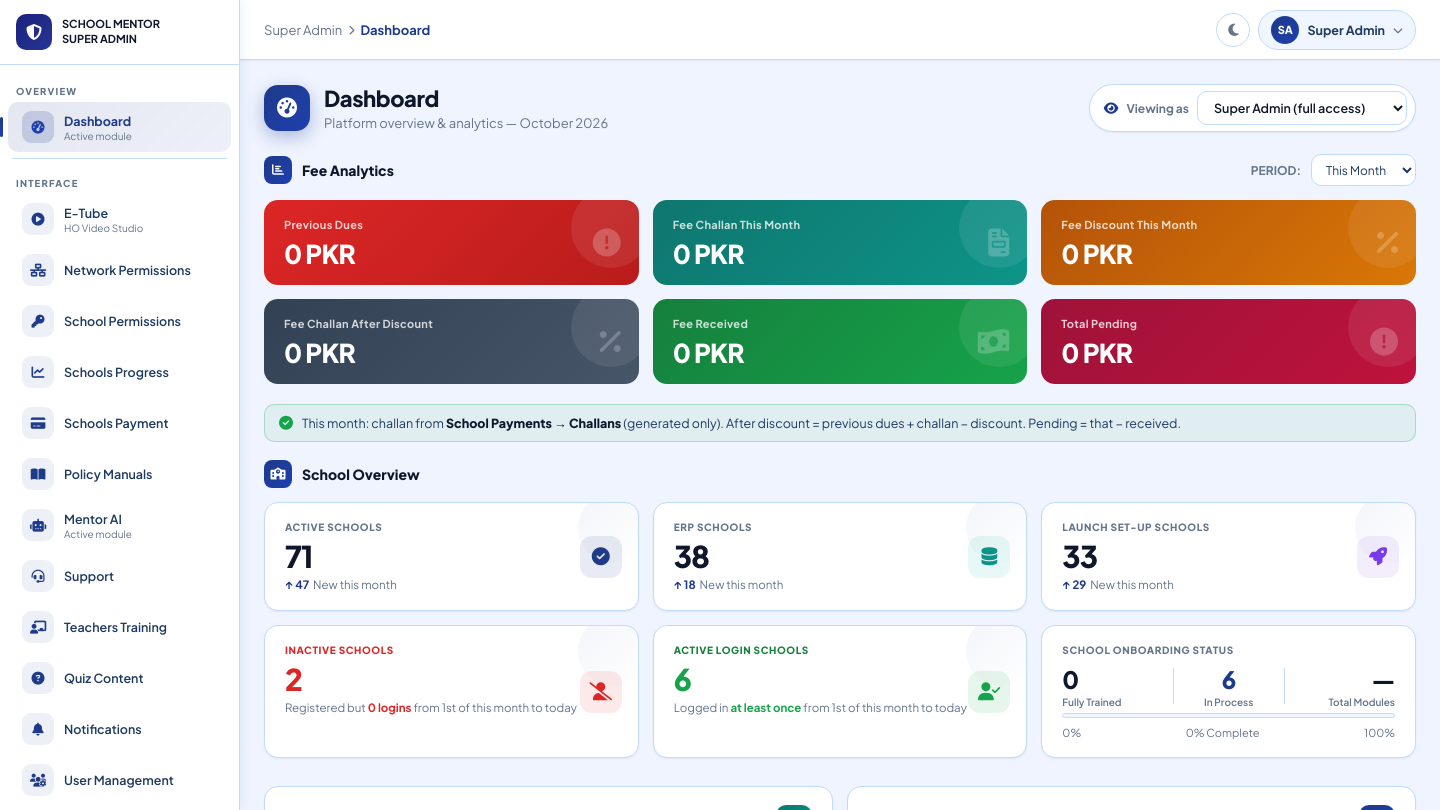
Super Admin — Dashboard permission gating › a user without the Dashboard menu is fully blocked
Expected: the text "Fee Analytics" is shown, [302,161,394,179]
Select "Pakiza Sajid" in the dropdown "Super Admin (full access)" next to "Viewing as": (1302, 108) [1197,91,1407,125]
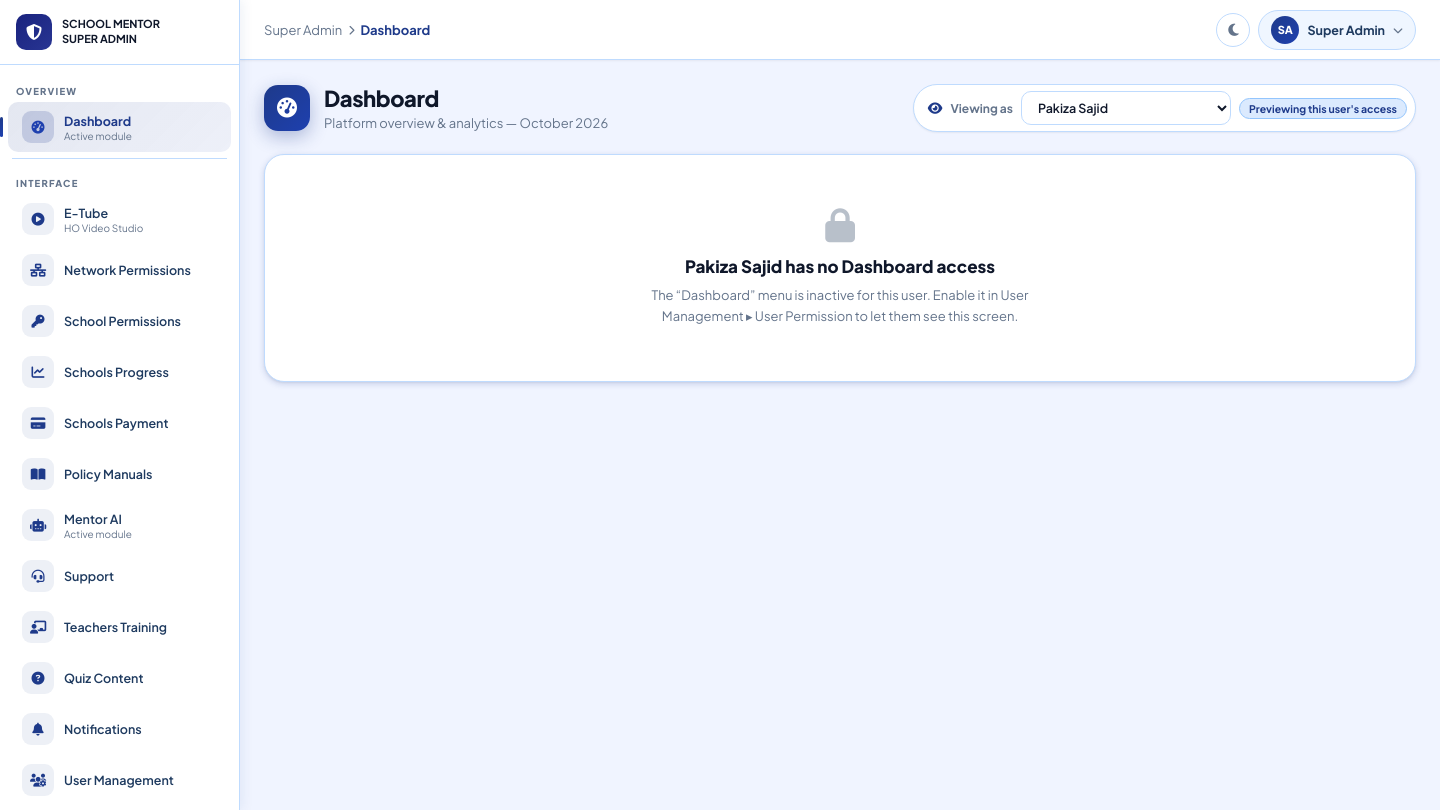
Now the text "Pakiza Sajid has no Dashboard access" is shown, box [685,255,995,277]
Now the text "Fee Analytics" is gone
